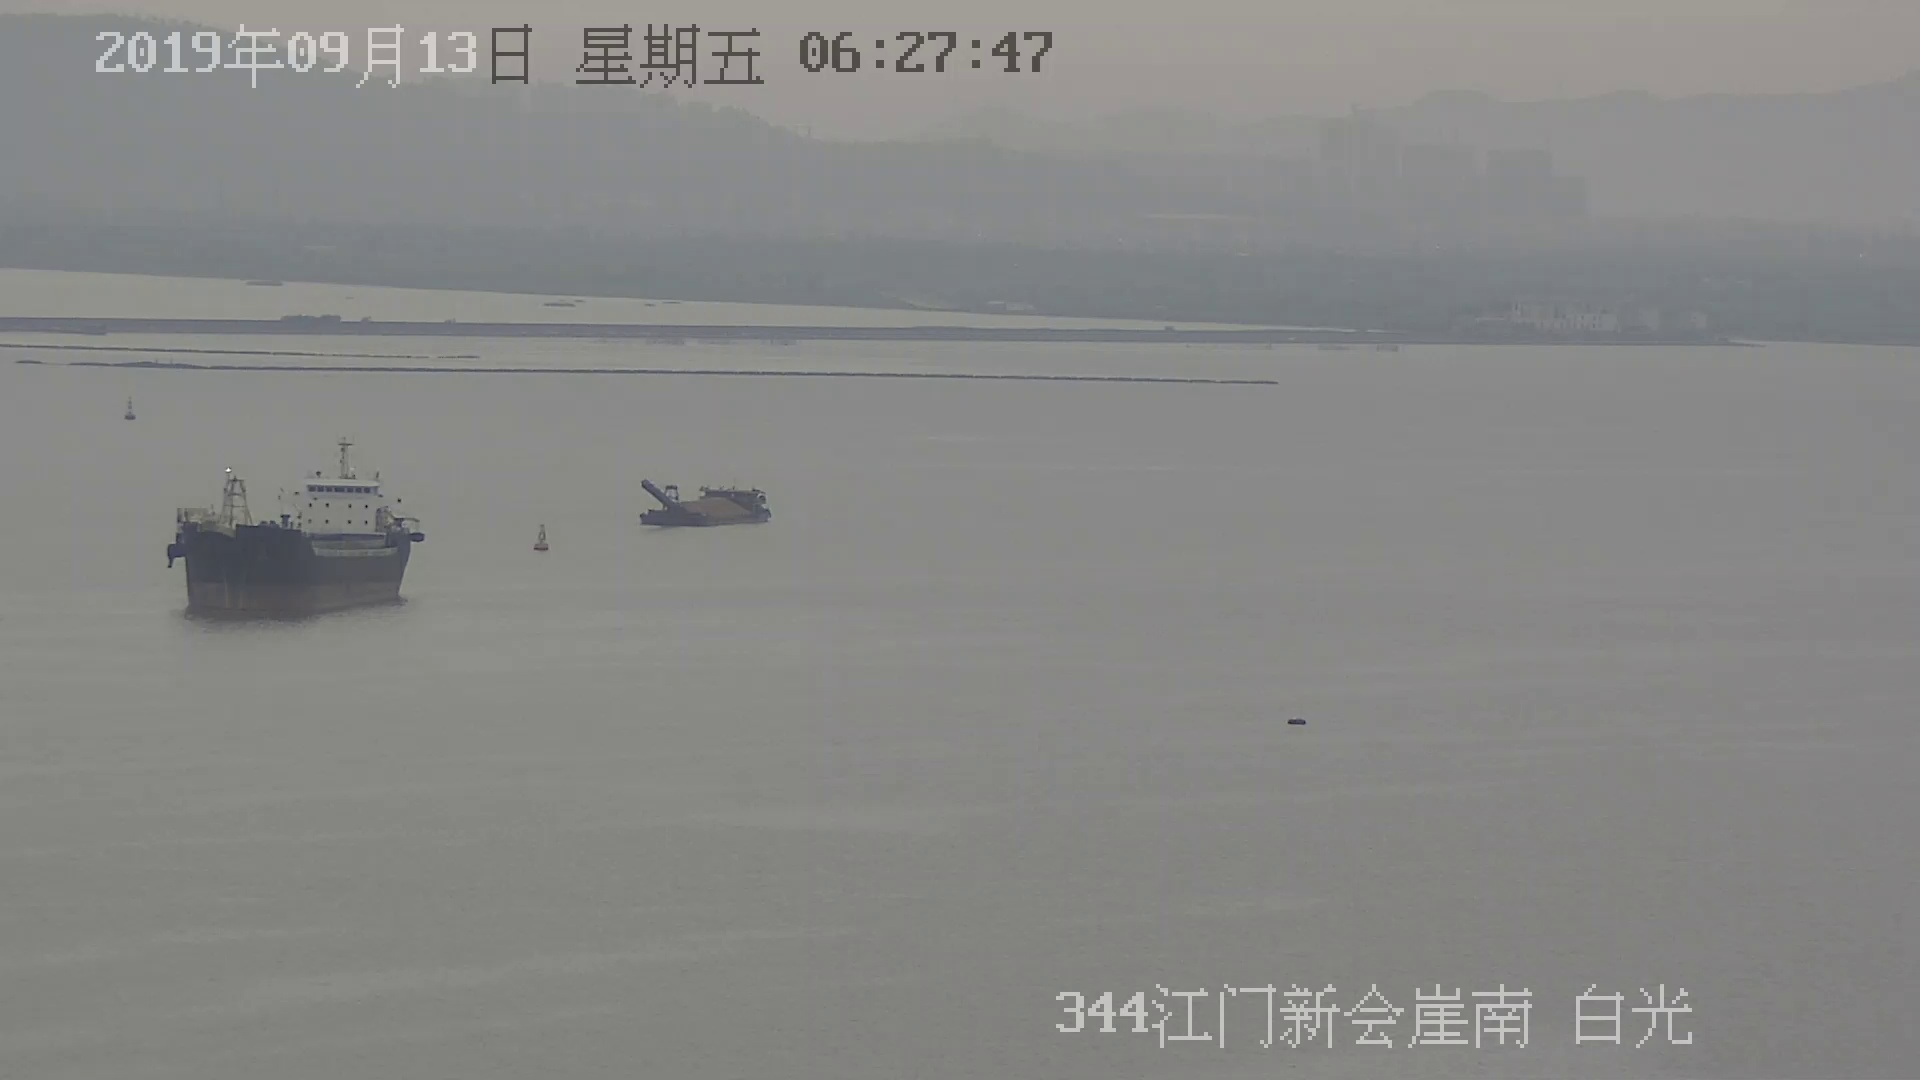ship: (162, 438, 427, 621), (636, 472, 775, 527)
